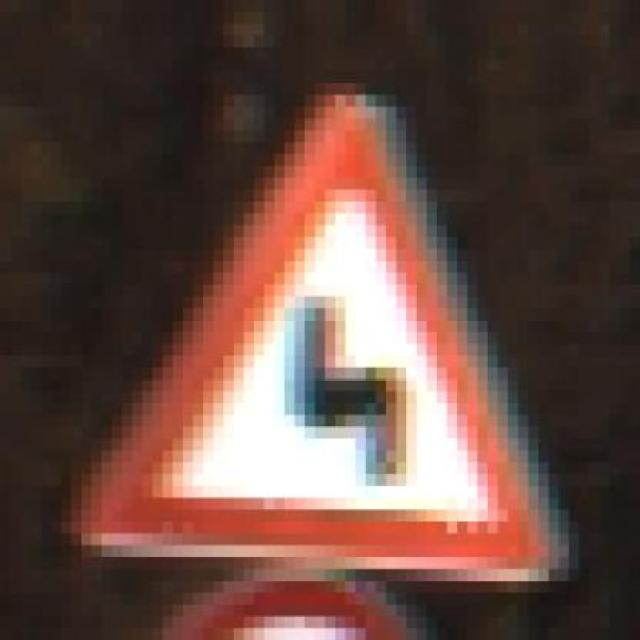Left Zig Zag Traffic: (71, 71, 569, 592)
